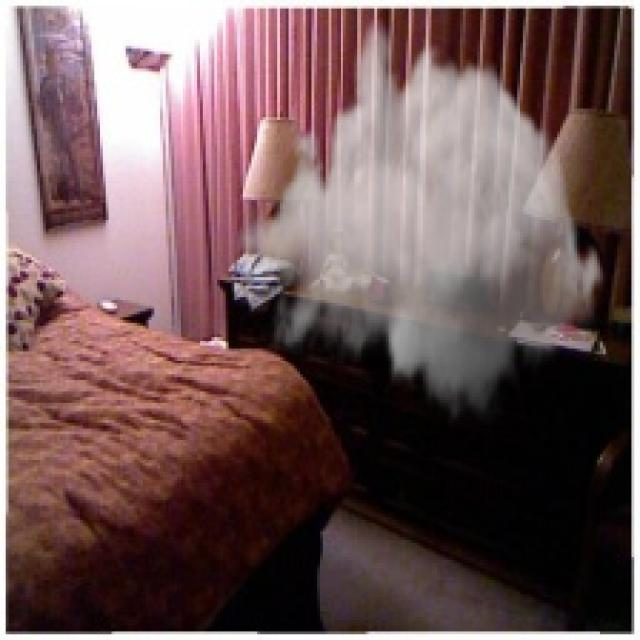Smoke: (234, 14, 606, 426)
